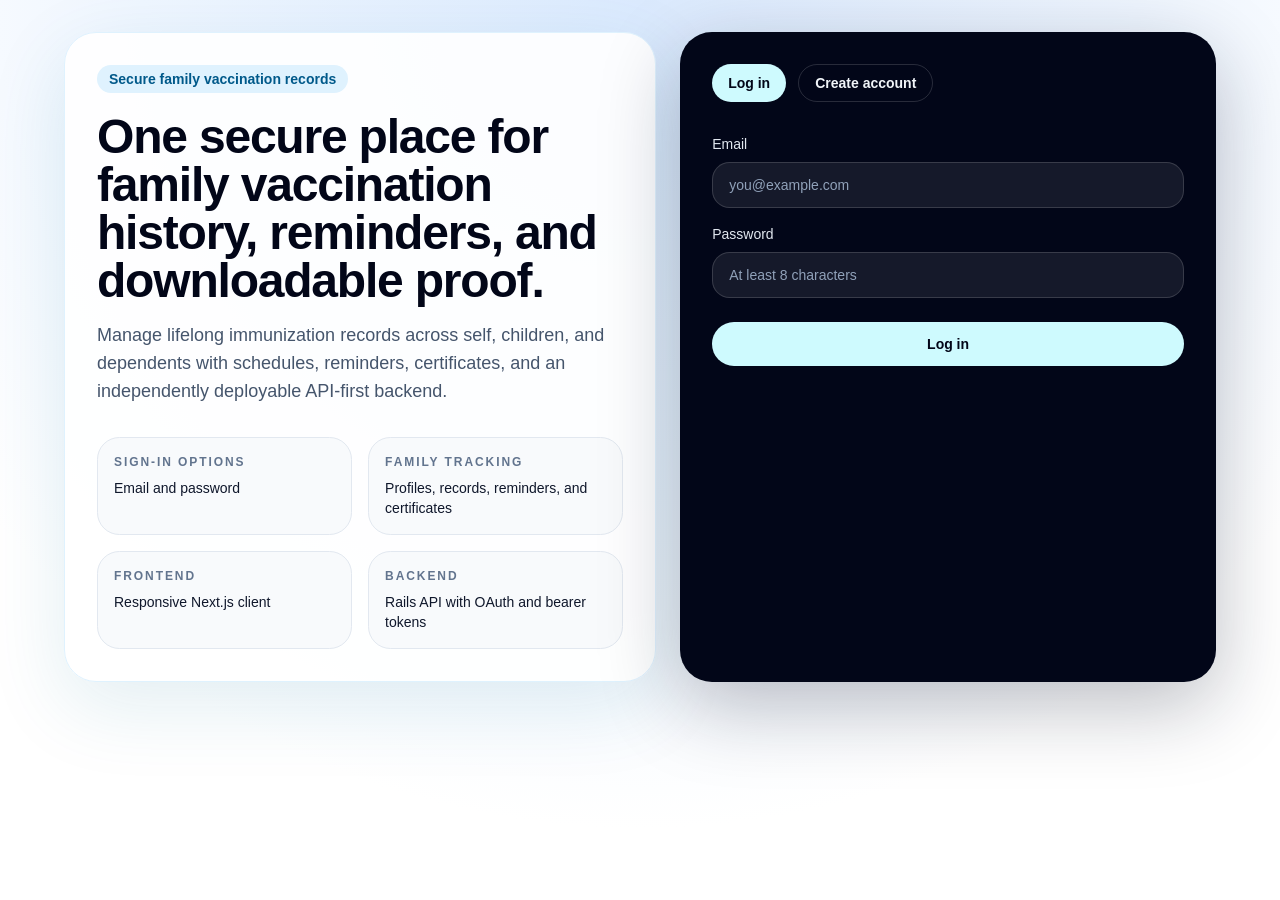
Test: AuthShell › switches to signup mode
The width and height of the screenshot is (1280, 900).
Click the button "Create account" at (866, 83), box [798,64,933,102]
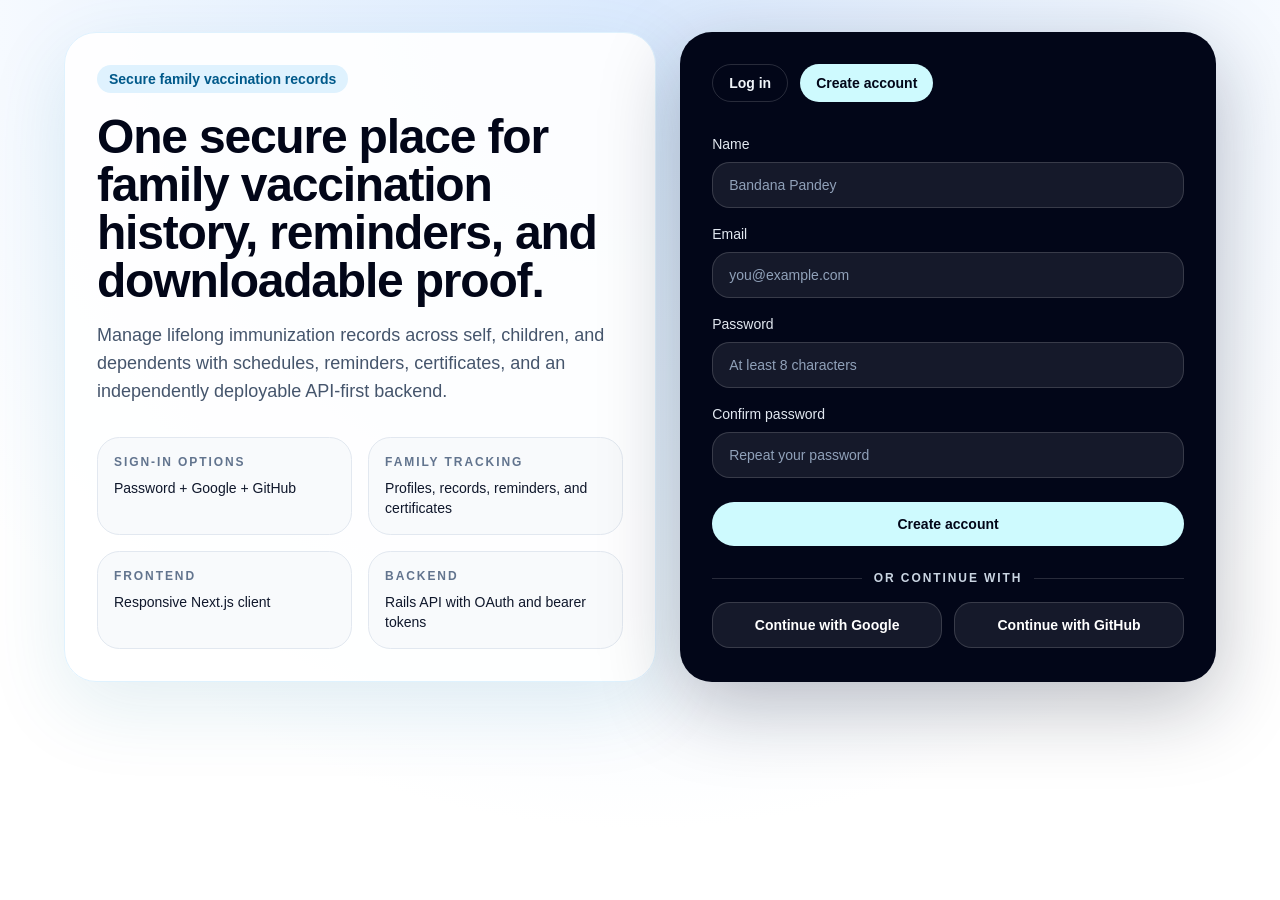
Expected: the field labelled "Name" is shown, [712,162,1184,208]
Now the password field labelled "Confirm password" is shown, box [712,432,1184,478]
